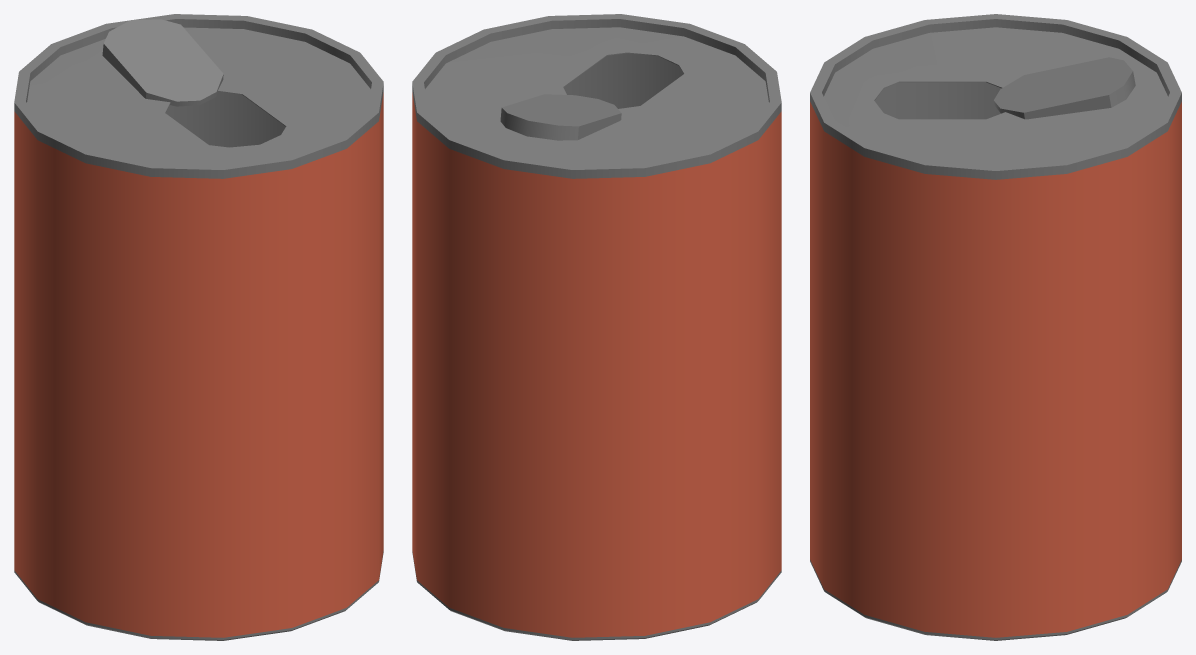
File: Asset018_Latarefri.fbx
3 views of the same model, side by side, from view 1: azimuth 30°, elevation 25°; view 2: azimuth 150°, elevation 25°; view 3: azimuth 270°, elevation 25° (orthographic).
Visible parts, largest first — view 1: Rótulo_Aqui, Latinha, Tampinha; view 2: Rótulo_Aqui, Latinha, Tampinha; view 3: Rótulo_Aqui, Latinha, Tampinha.
Boxes of the visible parts, x1,y1,x2,y2 form: Rótulo_Aqui: (14, 92, 383, 637); Latinha: (14, 14, 383, 640); Tampinha: (102, 19, 223, 106); Rótulo_Aqui: (412, 92, 781, 637); Latinha: (412, 14, 781, 640); Tampinha: (500, 94, 621, 140); Rótulo_Aqui: (810, 102, 1181, 637); Latinha: (810, 14, 1181, 640); Tampinha: (993, 57, 1135, 119).
Bounding box in the file's own units: 40.37 × 58.96 × 40.37.
